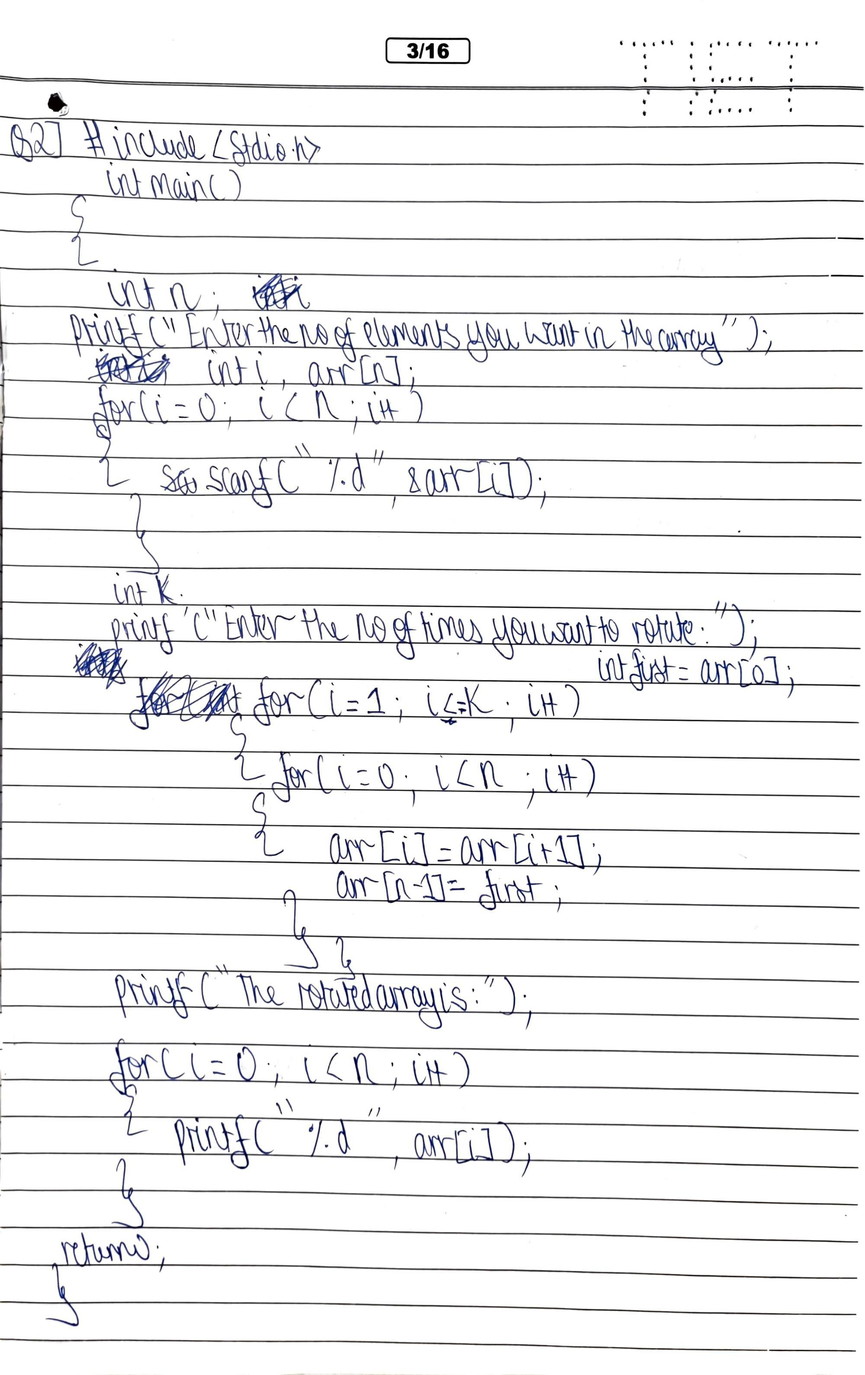cuttings: (126, 670, 245, 733), (90, 344, 180, 391), (69, 637, 132, 693), (245, 266, 311, 313), (158, 463, 200, 498)
